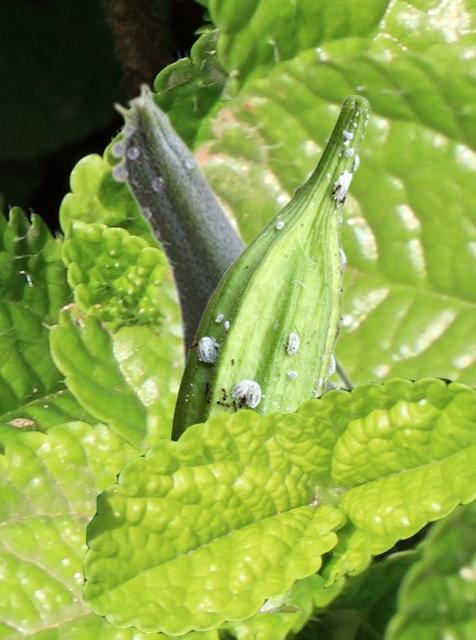okra: (168, 95, 370, 611), (108, 82, 357, 390)
